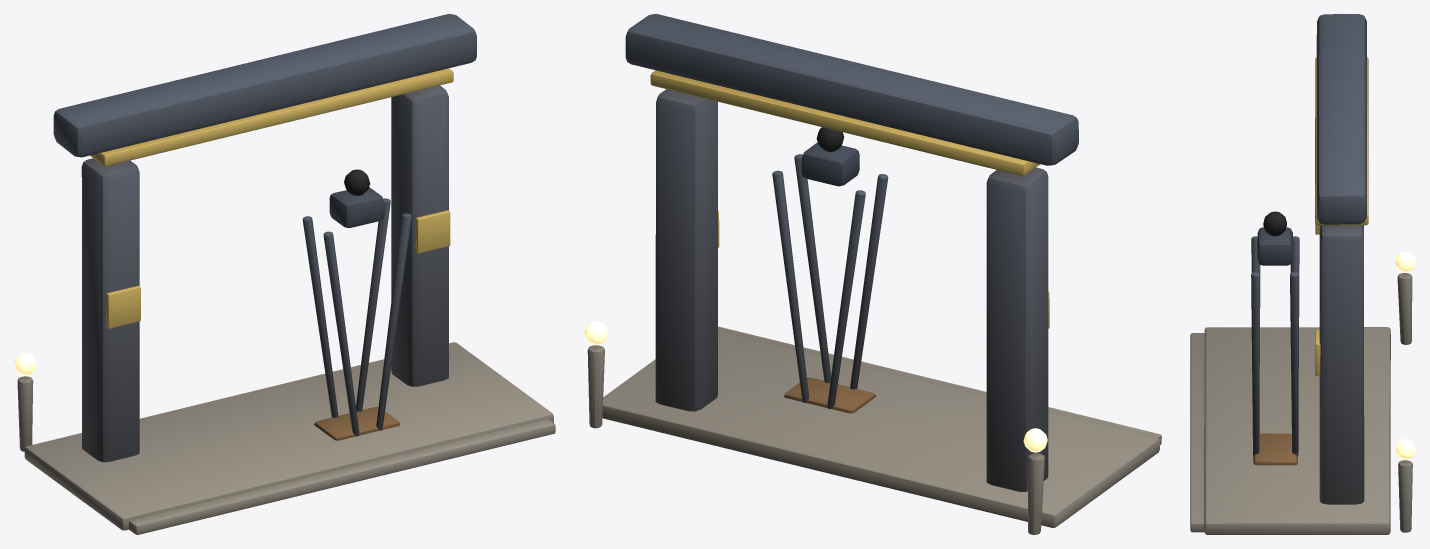
3 renders of one model, left to right at view 1: azimuth 30°, elevation 25°; view 2: azimuth 150°, elevation 25°; view 3: azimuth 270°, elevation 25°, orthographic. The views are drawn at different scales.
Visible parts, largest first — view 1: gate_05e68182; view 2: gate_05e68182; view 3: gate_05e68182.
Boxes of the visible parts, x1,y1,x2,y2 form: gate_05e68182: (14,14,555,534); gate_05e68182: (584,14,1161,534); gate_05e68182: (1190,14,1415,534).
Size of the model in its own units: 5.27 by 4.17 by 2.54.
